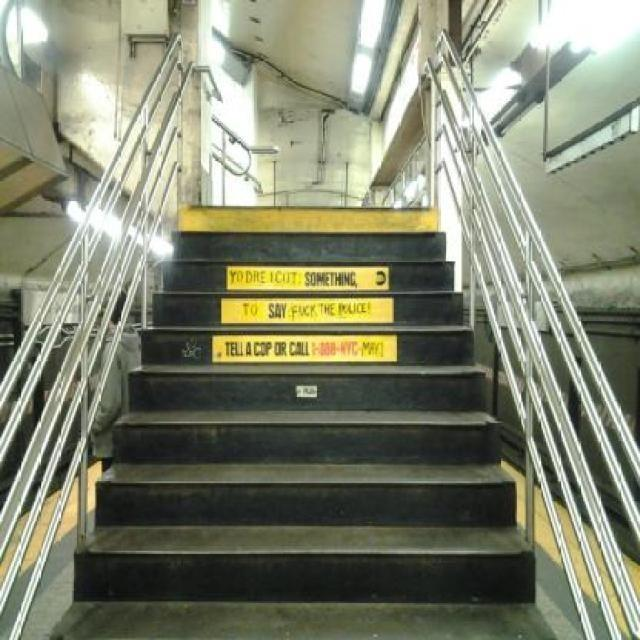stair: (71, 206, 537, 640)
